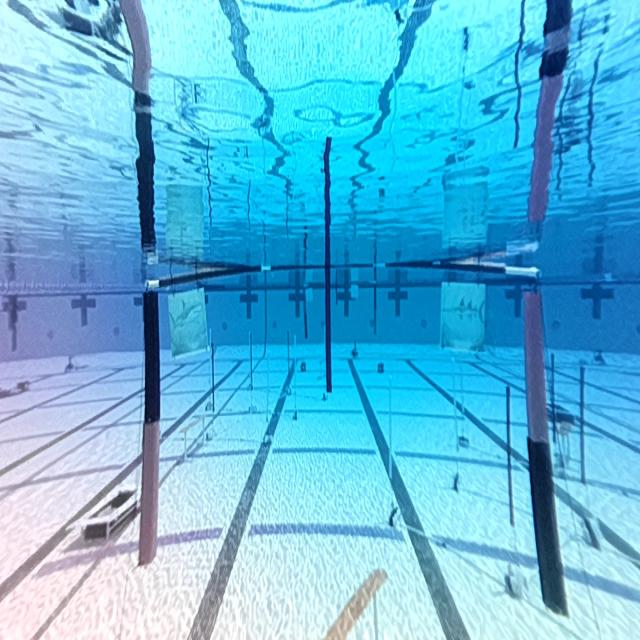pointed_nose: (440, 278, 487, 354)
round_nose: (167, 283, 209, 349)
